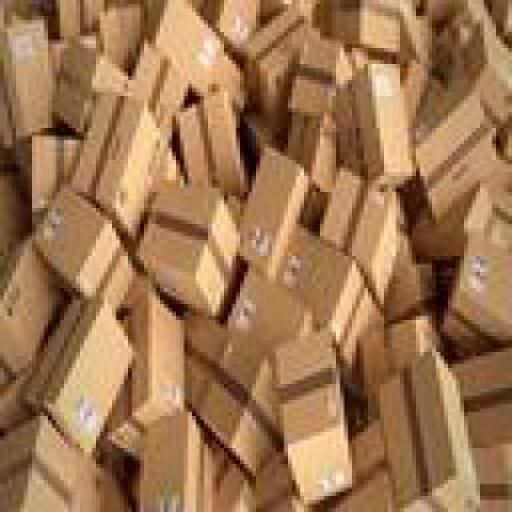cardboard: (0, 0, 508, 508), (175, 300, 280, 472), (180, 304, 284, 476), (68, 87, 176, 240), (276, 228, 380, 384), (20, 292, 132, 436), (376, 344, 468, 508), (288, 44, 368, 224), (132, 176, 240, 308), (96, 272, 180, 436), (272, 324, 348, 504), (312, 156, 404, 304), (408, 124, 508, 256), (408, 92, 508, 216), (436, 180, 508, 344), (136, 408, 252, 508), (139, 0, 245, 105), (0, 228, 73, 373), (412, 16, 508, 124), (287, 412, 392, 508), (28, 184, 120, 292), (324, 56, 404, 180), (228, 260, 316, 372), (236, 140, 308, 272), (0, 408, 92, 507), (168, 84, 244, 192), (44, 28, 128, 124), (0, 4, 48, 152), (360, 308, 436, 400), (248, 4, 312, 104), (448, 340, 508, 436), (284, 32, 356, 112), (16, 128, 76, 208), (384, 228, 436, 308), (415, 0, 508, 44), (307, 0, 400, 44), (392, 0, 433, 96), (196, 0, 264, 52), (256, 440, 300, 508), (468, 436, 508, 508), (91, 0, 139, 60), (92, 456, 136, 508), (0, 360, 32, 424), (236, 96, 272, 144), (52, 0, 100, 36), (256, 0, 312, 12)
